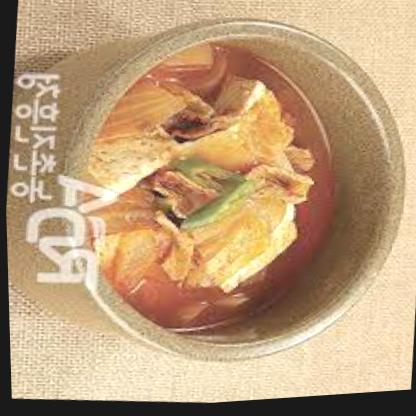Kimchi: (62, 27, 376, 350)
